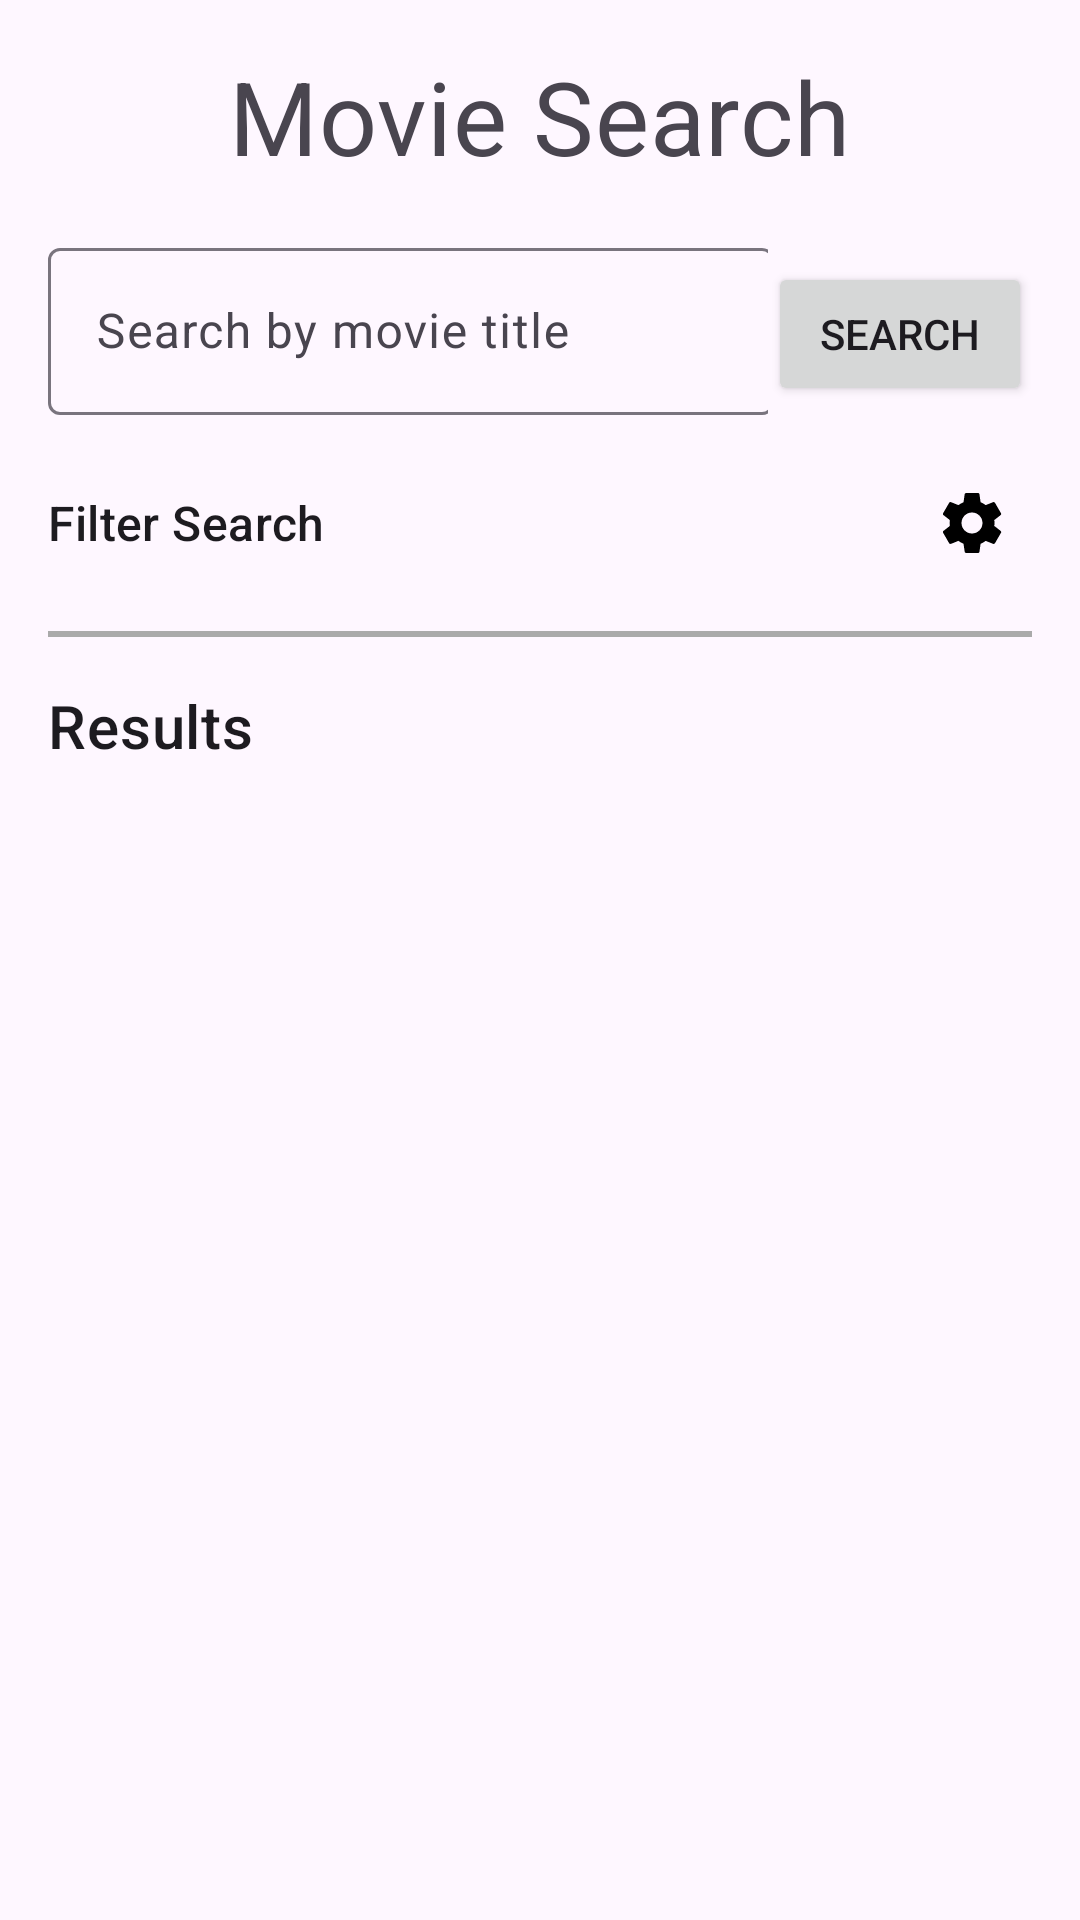

Where icons sit on this 1080w x 1920h app screen, as (x1, y1, x2, y2):
Filter Settings: (943, 493, 1002, 553)
